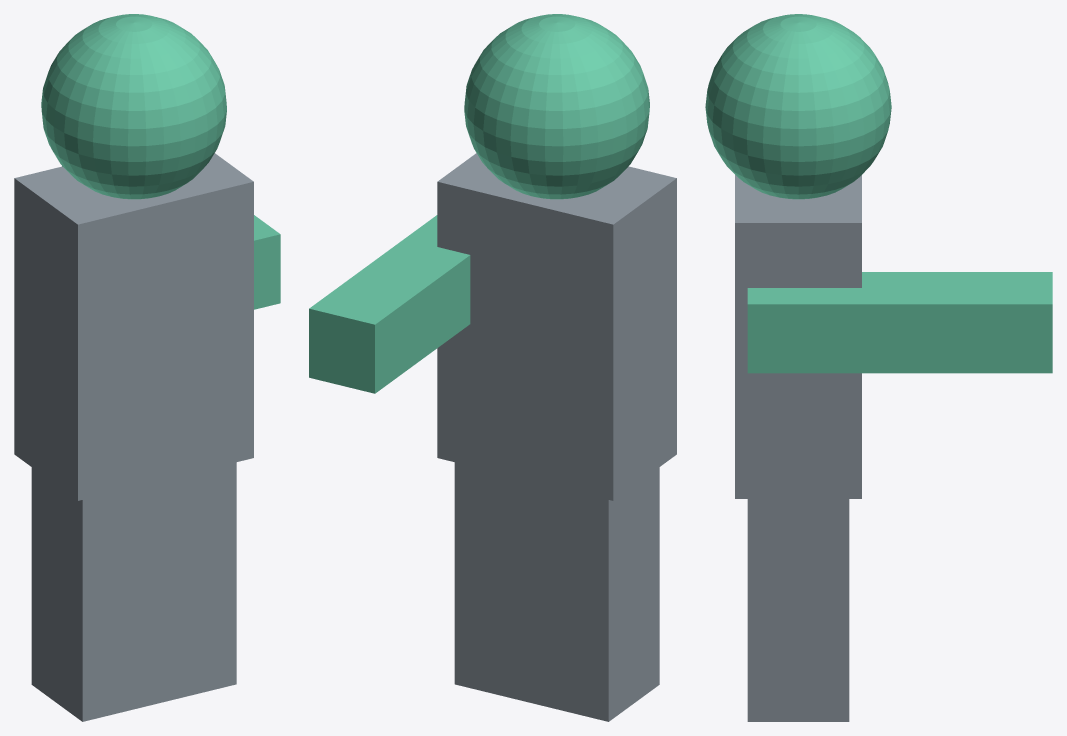
Rendered from CO_QianweiRifleman_LOD0.glb.
3 renders of one model, left to right at view 1: azimuth 30°, elevation 25°; view 2: azimuth 150°, elevation 25°; view 3: azimuth 270°, elevation 25°, orthographic.
Visible parts, largest first — view 1: Head; view 2: Head; view 3: Head.
Part boxes in pixels (x1,y1,x2,y2): Head: (14,14,280,721); Head: (309,14,676,721); Head: (705,14,1052,721).
Size of the model in its own units: 57 by 172 by 82.
